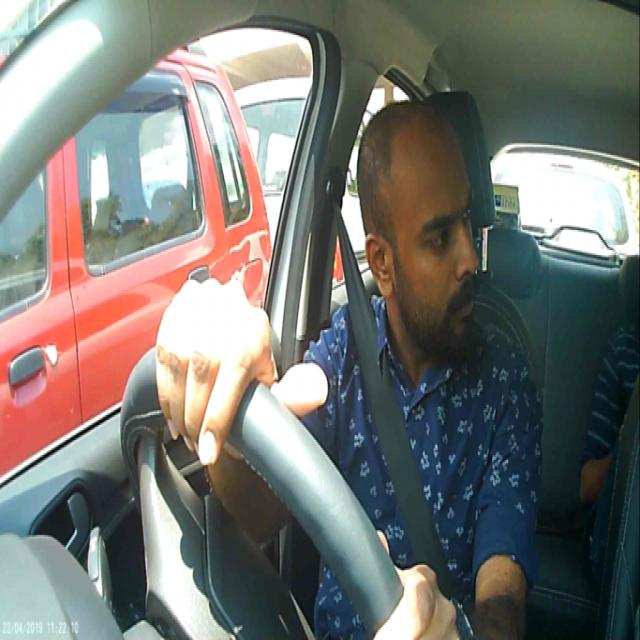seatbelt: (334, 302, 458, 605)
